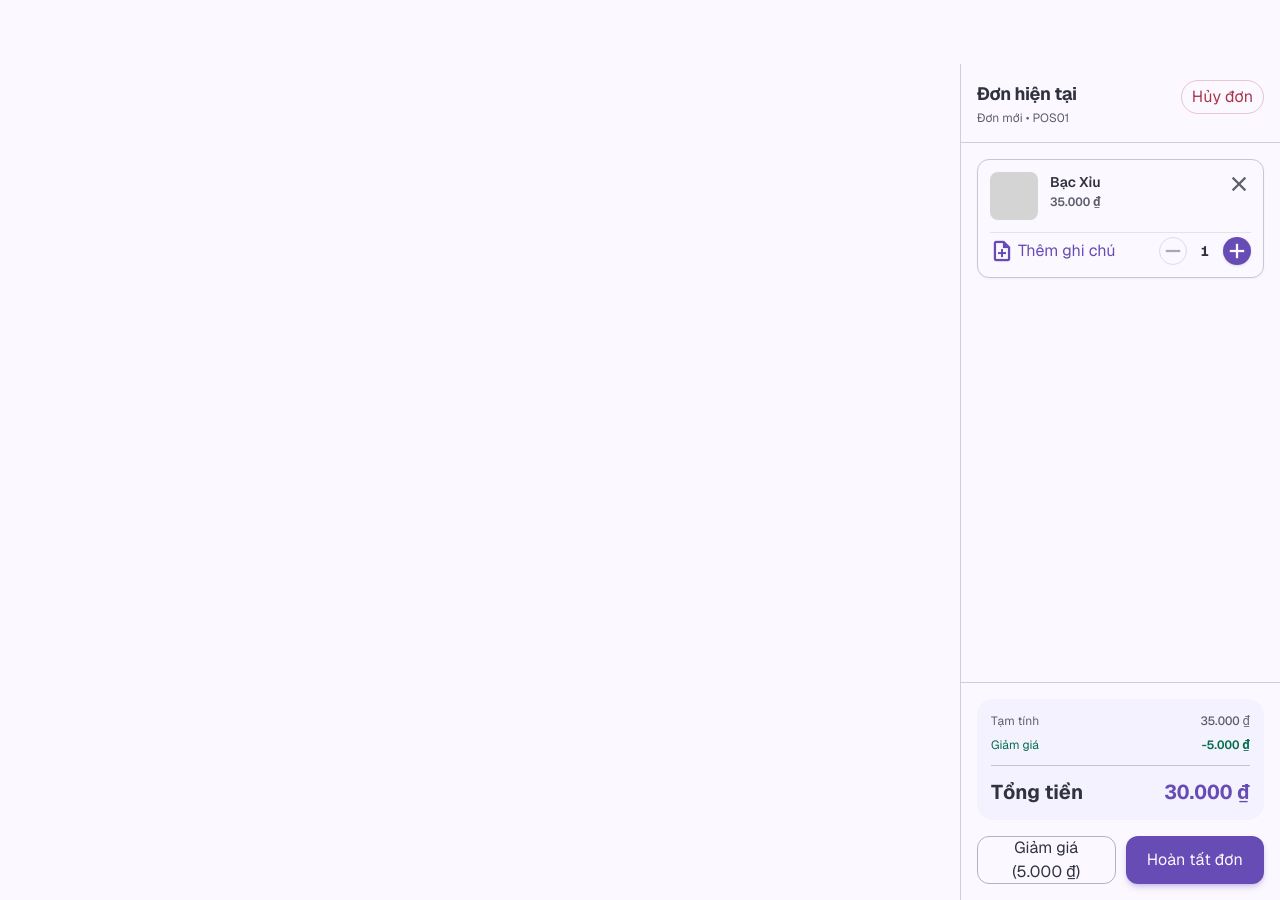
Scenario: CartPanel cart-level void › shows cart cancel only with items and resets cart, discount, payment method with local feedback
Click the button "Hủy đơn": [1222, 97] box [1181, 80, 1264, 114]
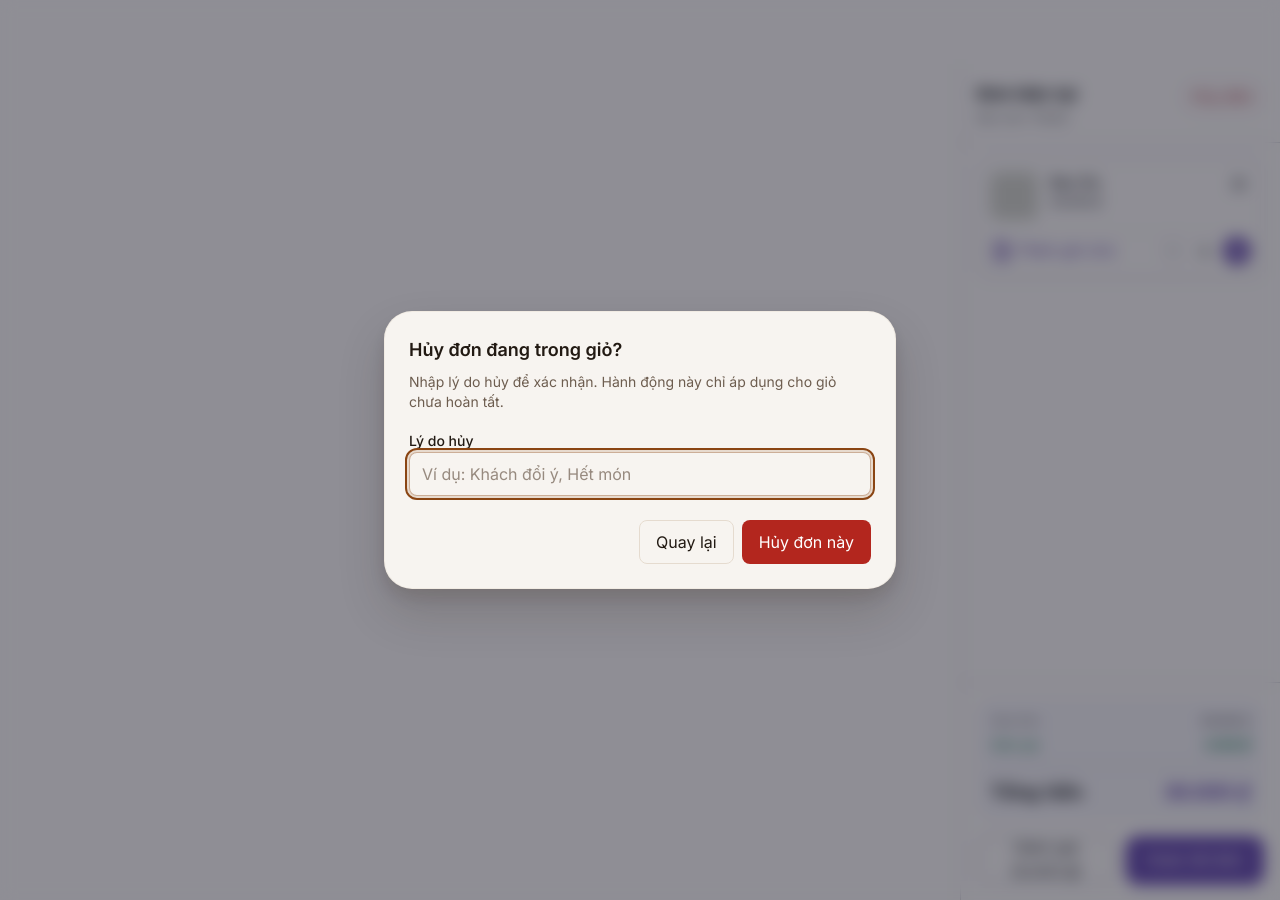
In the field labelled "Lý do hủy": [640, 474] box [409, 452, 871, 496], type "Khách đổi ý"
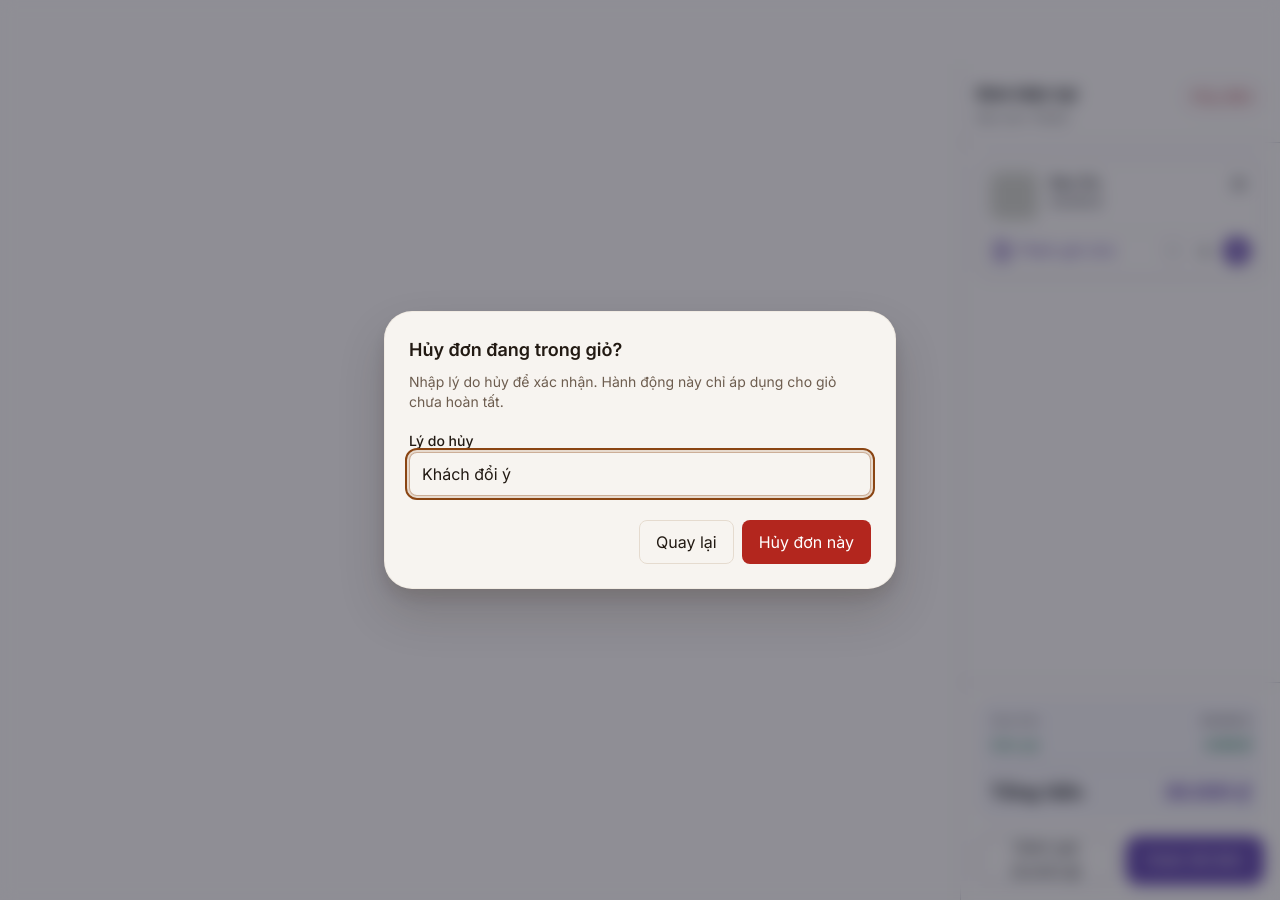
Click the button "Hủy đơn này": [806, 542] box [742, 520, 871, 564]
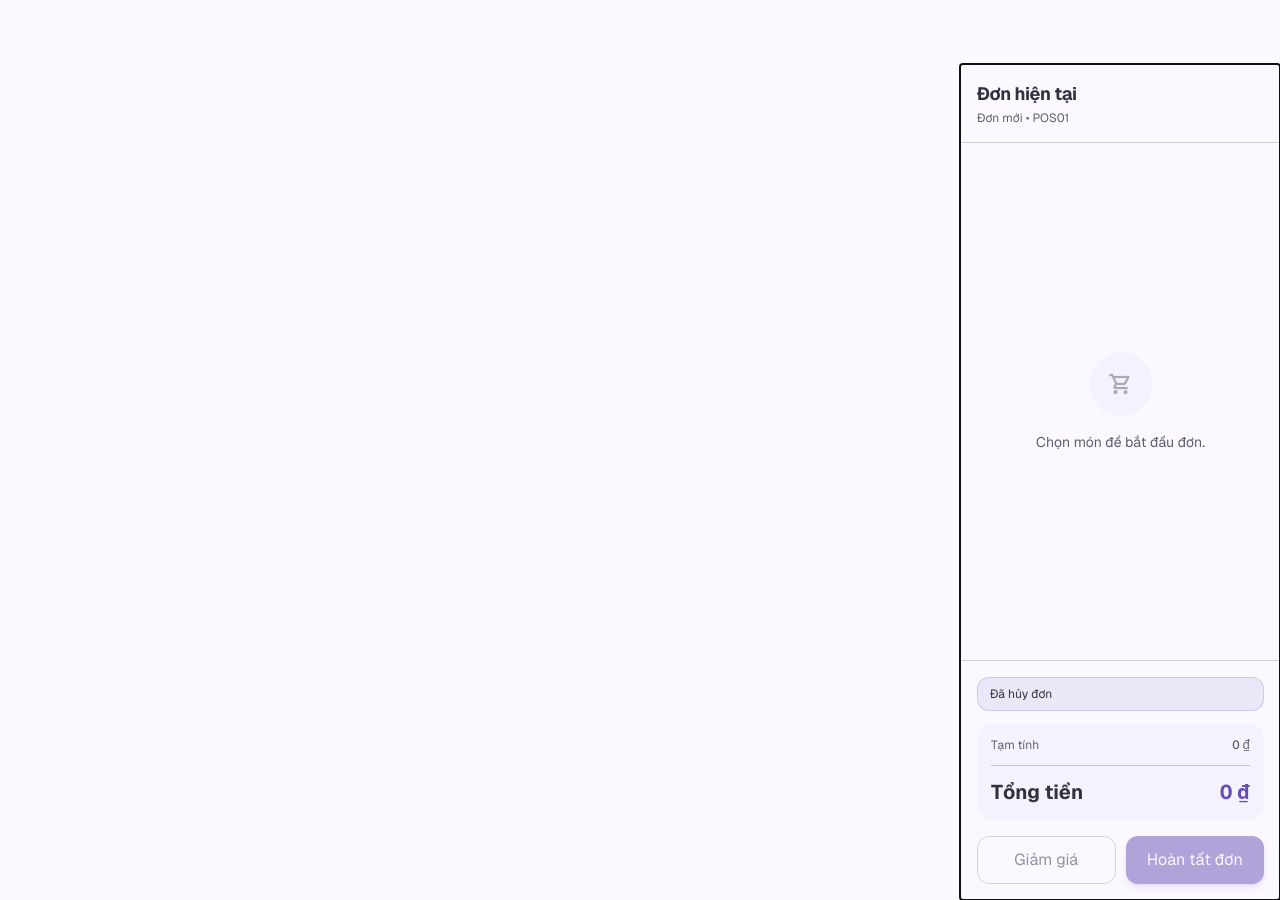
Expected: the heading "Bạc Xỉu" is gone
